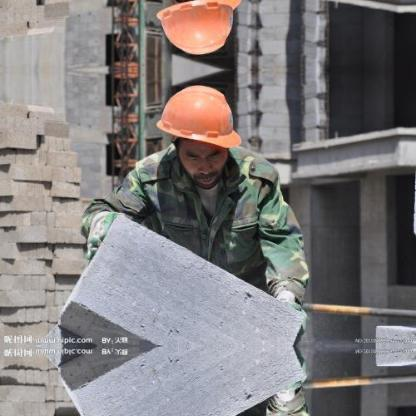helmet: (152, 81, 248, 155)
